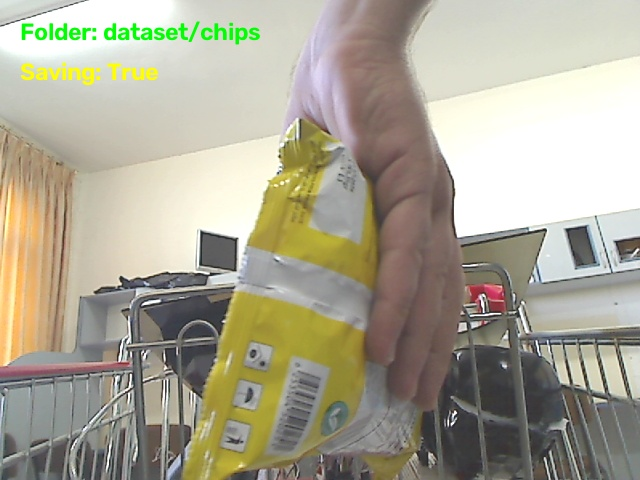chips: (184, 120, 418, 479)
